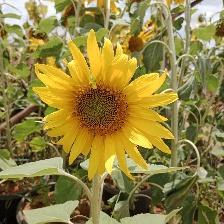sunflower: (31, 29, 181, 184)
